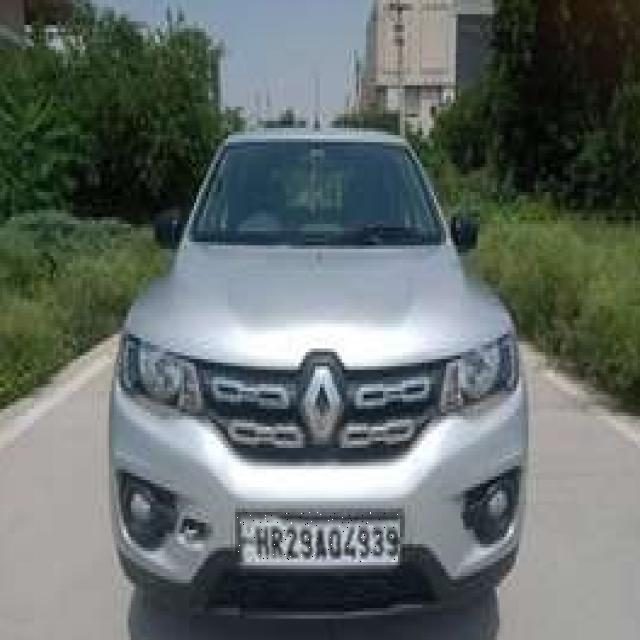Plate: (236, 513, 399, 563)
